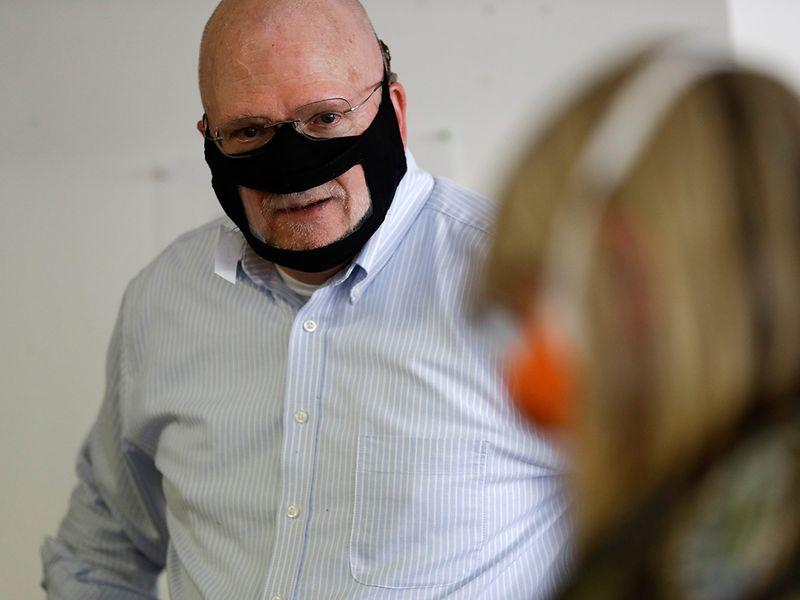Wore Mask Incorrectly: (154, 26, 455, 314)
